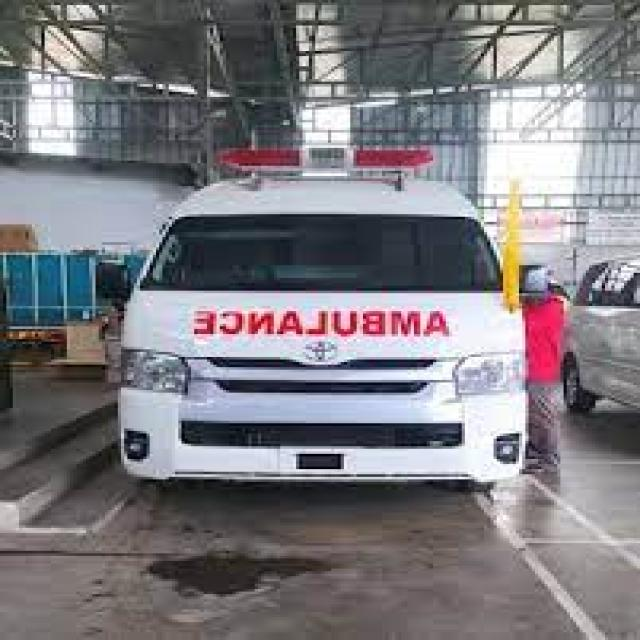ambulance: (118, 142, 554, 494)
